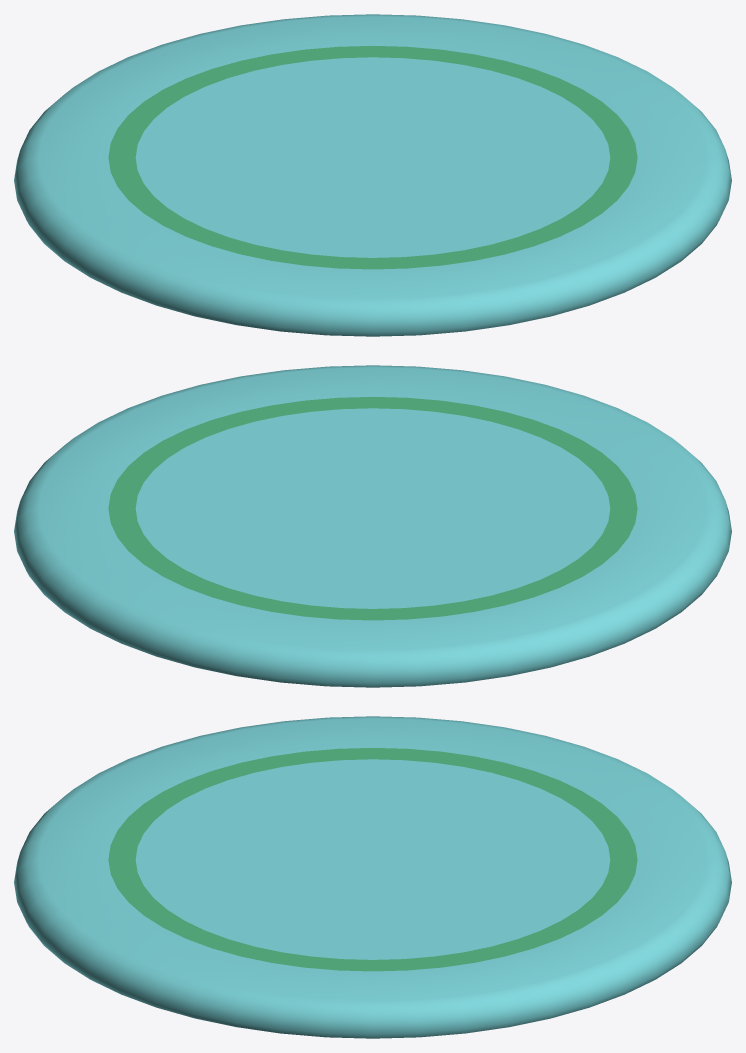
File: Bath_Prop_28.glb
The picture shows the model from 3 angles, top to bottom: view 1: azimuth 30°, elevation 25°; view 2: azimuth 150°, elevation 25°; view 3: azimuth 270°, elevation 25°; orthographic projection.
Visible parts, largest first — view 1: Bath_Prop_28; view 2: Bath_Prop_28; view 3: Bath_Prop_28.
Boxes of the visible parts, x1,y1,x2,y2 form: Bath_Prop_28: (14,14,731,336); Bath_Prop_28: (14,365,731,687); Bath_Prop_28: (14,716,731,1038).
Size of the model in its own units: 0.66 by 0.029 by 0.66.
1 material, 1 textured.
